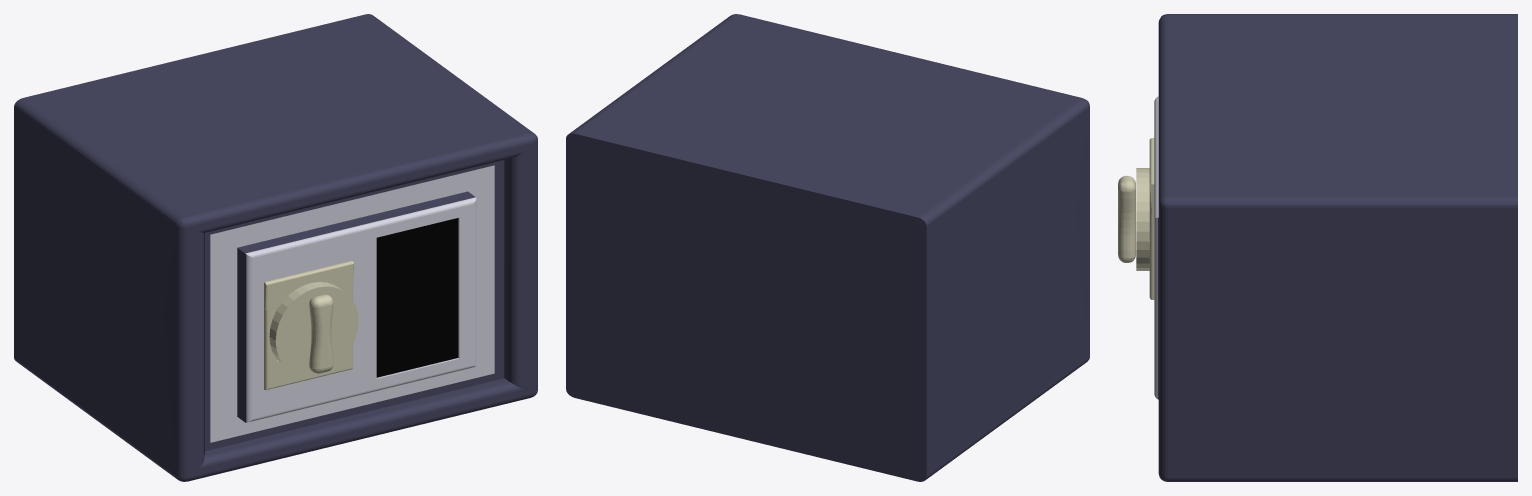
Rendered from Kinko.fbx.
3 views of the same model, side by side, from view 1: azimuth 30°, elevation 25°; view 2: azimuth 150°, elevation 25°; view 3: azimuth 270°, elevation 25° (orthographic). The views are drawn at different scales.
Parts seen in each view (by area): view 1: Box, Dppr.002, Dppr, Dppr.001, DialCover, Dial.001, DialCover.001, 立方体; view 2: Box; view 3: Box, 立方体, Dial.001, Dppr.002, DialCover.001.
Part boxes in pixels (bbox=[...]): Box: bbox=[14, 14, 537, 481]; Dppr.002: bbox=[210, 165, 494, 442]; Dppr: bbox=[204, 159, 508, 455]; Dppr.001: bbox=[376, 218, 458, 377]; DialCover: bbox=[253, 231, 362, 418]; Dial.001: bbox=[269, 282, 358, 375]; DialCover.001: bbox=[264, 260, 353, 390]; 立方体: bbox=[309, 294, 333, 373]; Box: bbox=[566, 14, 1089, 481]; Box: bbox=[1158, 14, 1517, 481]; 立方体: bbox=[1118, 175, 1135, 262]; Dial.001: bbox=[1136, 168, 1149, 270]; Dppr.002: bbox=[1154, 96, 1158, 399]; DialCover.001: bbox=[1149, 138, 1154, 299].
Size of the model in its own units: 50 by 35 by 44.52.
